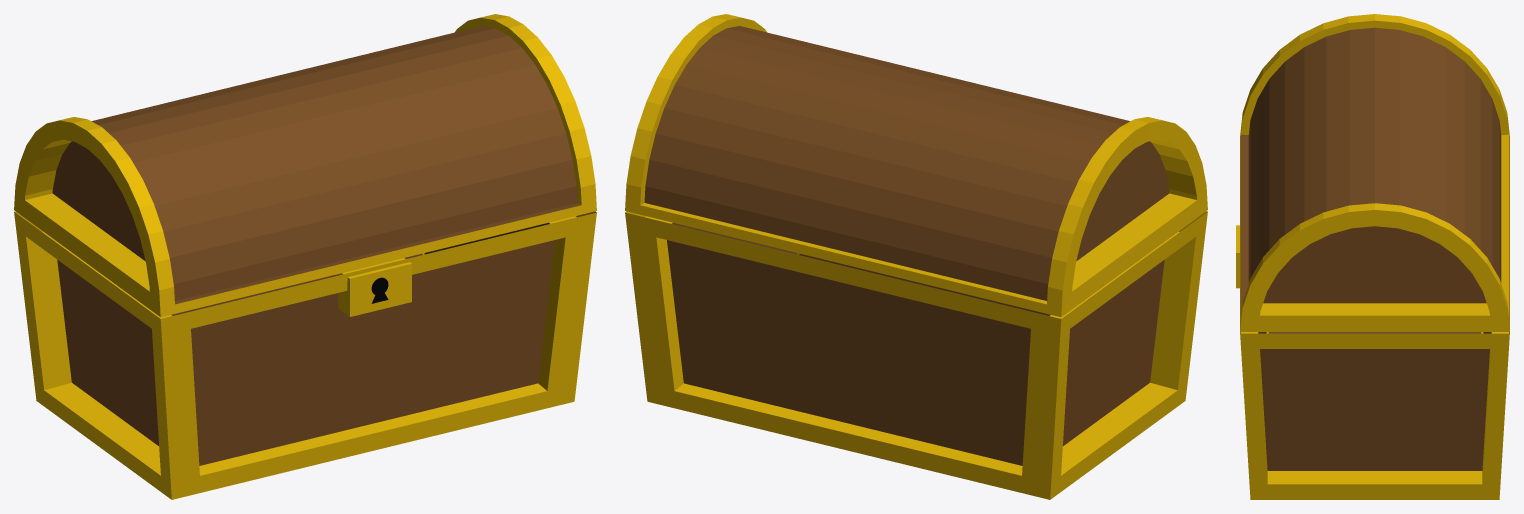
Rendered from le_takarabako.glb.
The picture shows the model from 3 angles, left to right: view 1: azimuth 30°, elevation 25°; view 2: azimuth 150°, elevation 25°; view 3: azimuth 270°, elevation 25°; orthographic projection. The views are drawn at different scales.
Parts seen in each view (by area): view 1: Cylinder, Cube, Cube.001; view 2: Cylinder, Cube; view 3: Cylinder, Cube.
Boxes of the visible parts, box(x1,y1,x2,y2) form: Cylinder: box(14, 14, 596, 317); Cube: box(14, 211, 596, 499); Cube.001: box(338, 258, 411, 316); Cylinder: box(625, 14, 1207, 317); Cube: box(625, 211, 1207, 499); Cylinder: box(1240, 14, 1509, 331); Cube: box(1240, 332, 1509, 499).
Size of the model in its own units: 2.39 by 1.69 by 1.41.
